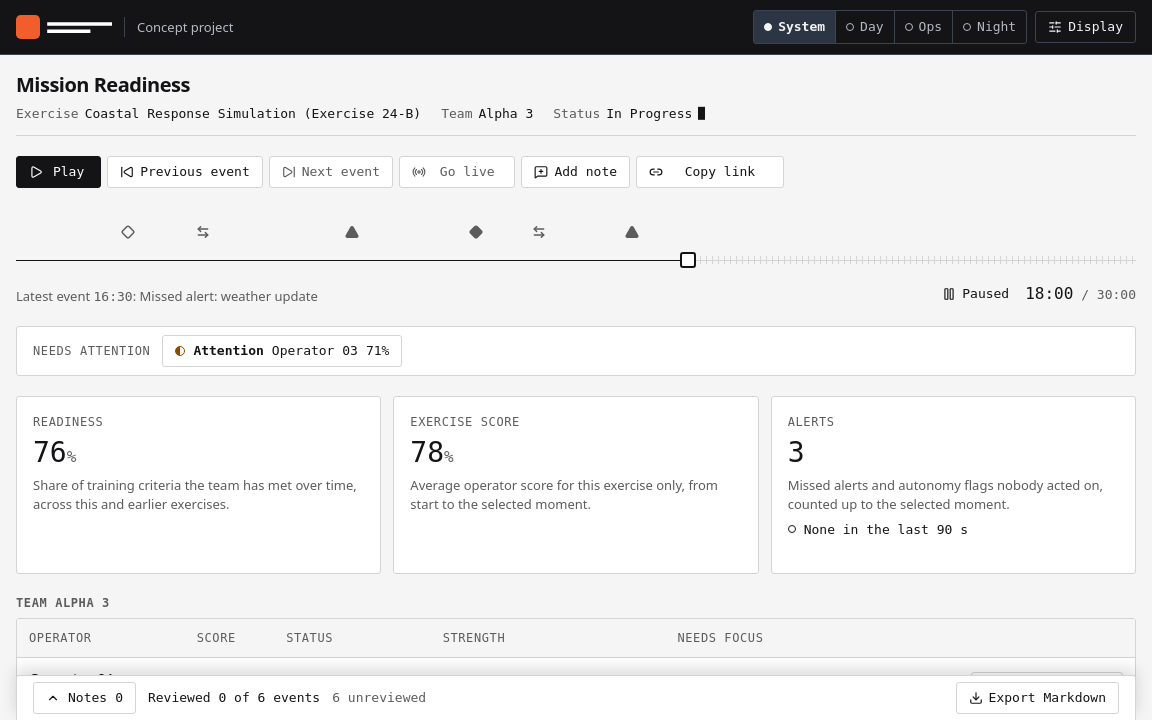
copy link › says when it couldn't copy
The image size is (1152, 720).
Click the button "Copy link". click: coordinates (710, 172)
box: 636,156 -> 784,188
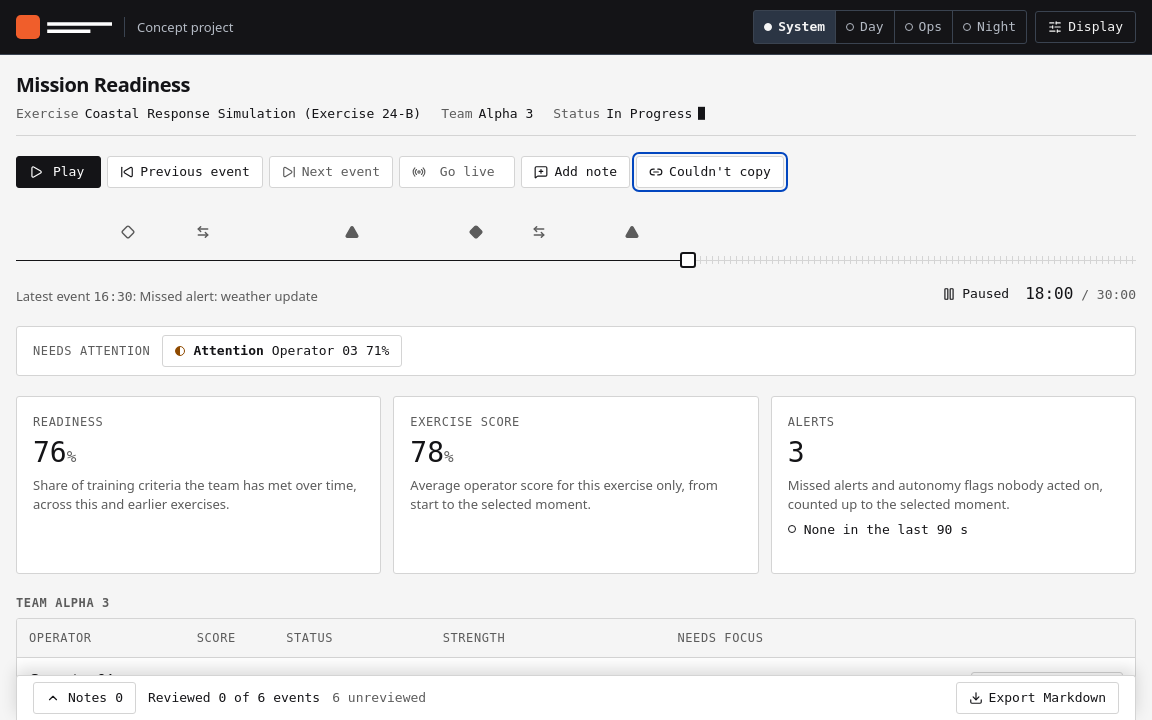
Expected: the button "Couldn't copy" is shown, 636,156 -> 784,188
